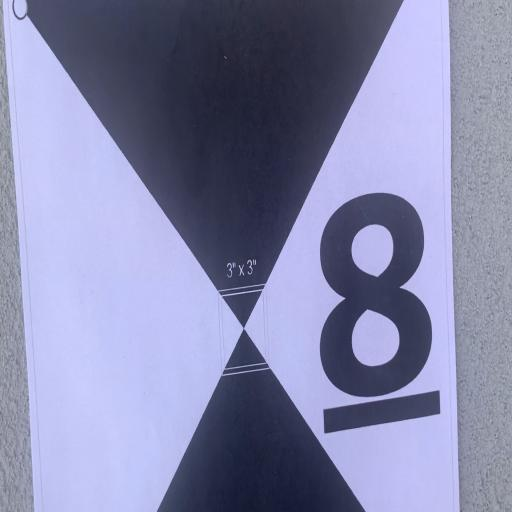target8: (2, 0, 461, 511)
